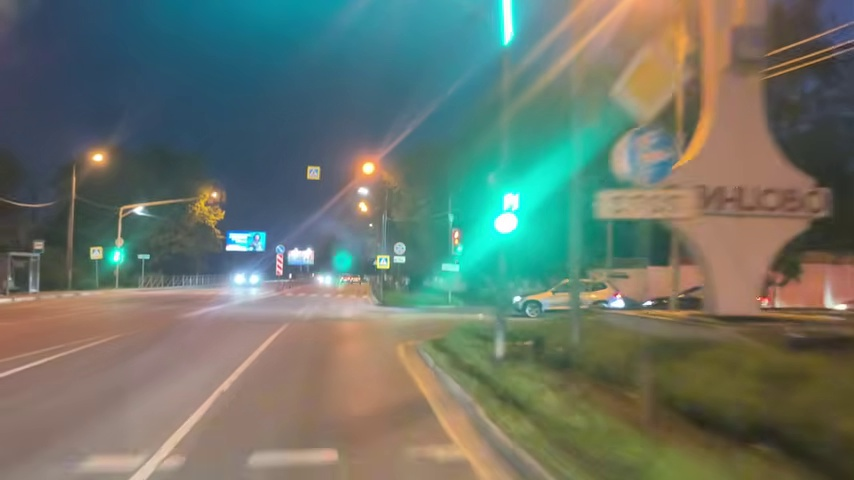acesa: (195, 188, 221, 213), (356, 158, 380, 180), (86, 148, 110, 169), (354, 198, 373, 219), (303, 164, 323, 183)
